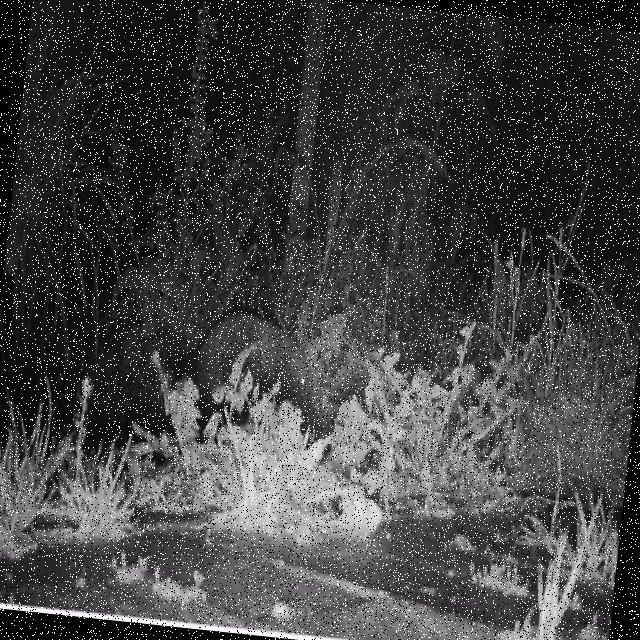Hedgehog: (197, 309, 338, 430)
